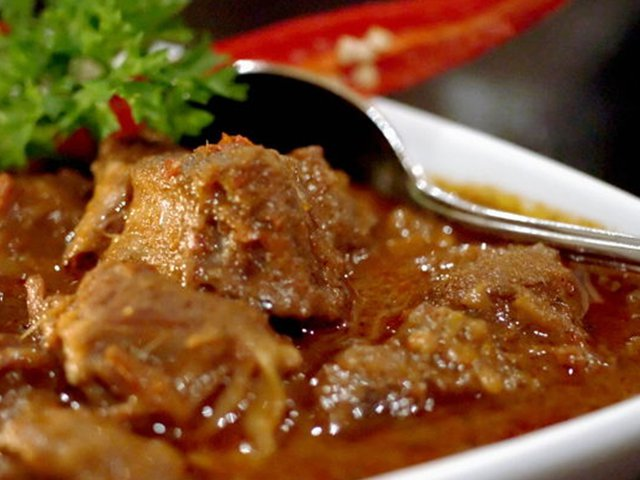rendang: (8, 40, 640, 459)
